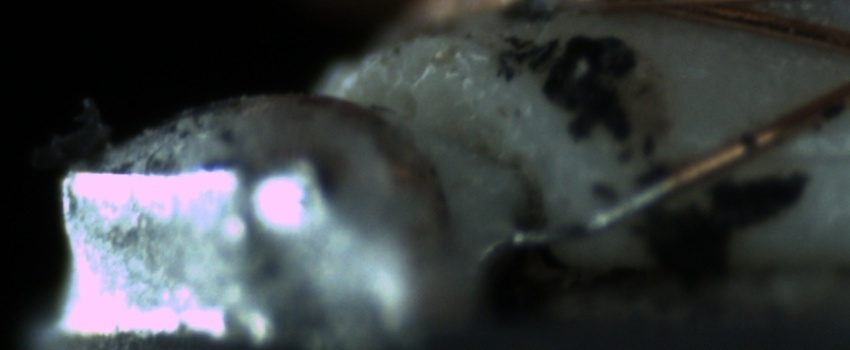DL: (776, 119, 850, 191)
TS: (522, 174, 678, 248)
